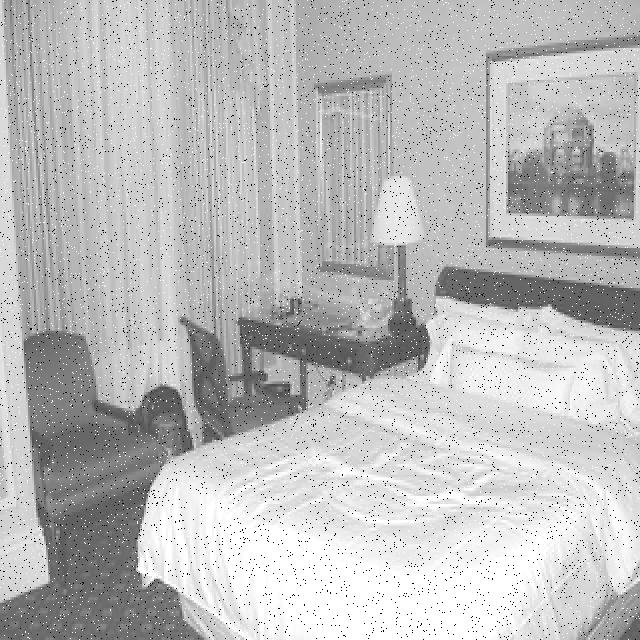bed: (134, 291, 640, 637)
